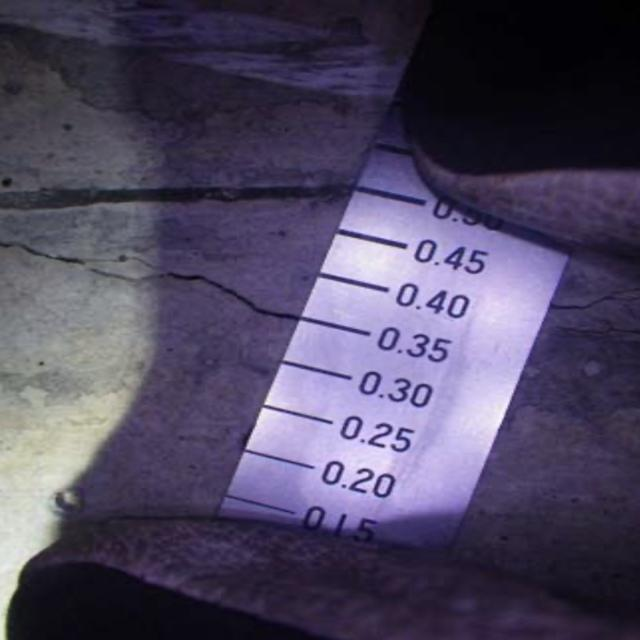crack: (6, 220, 311, 334)
